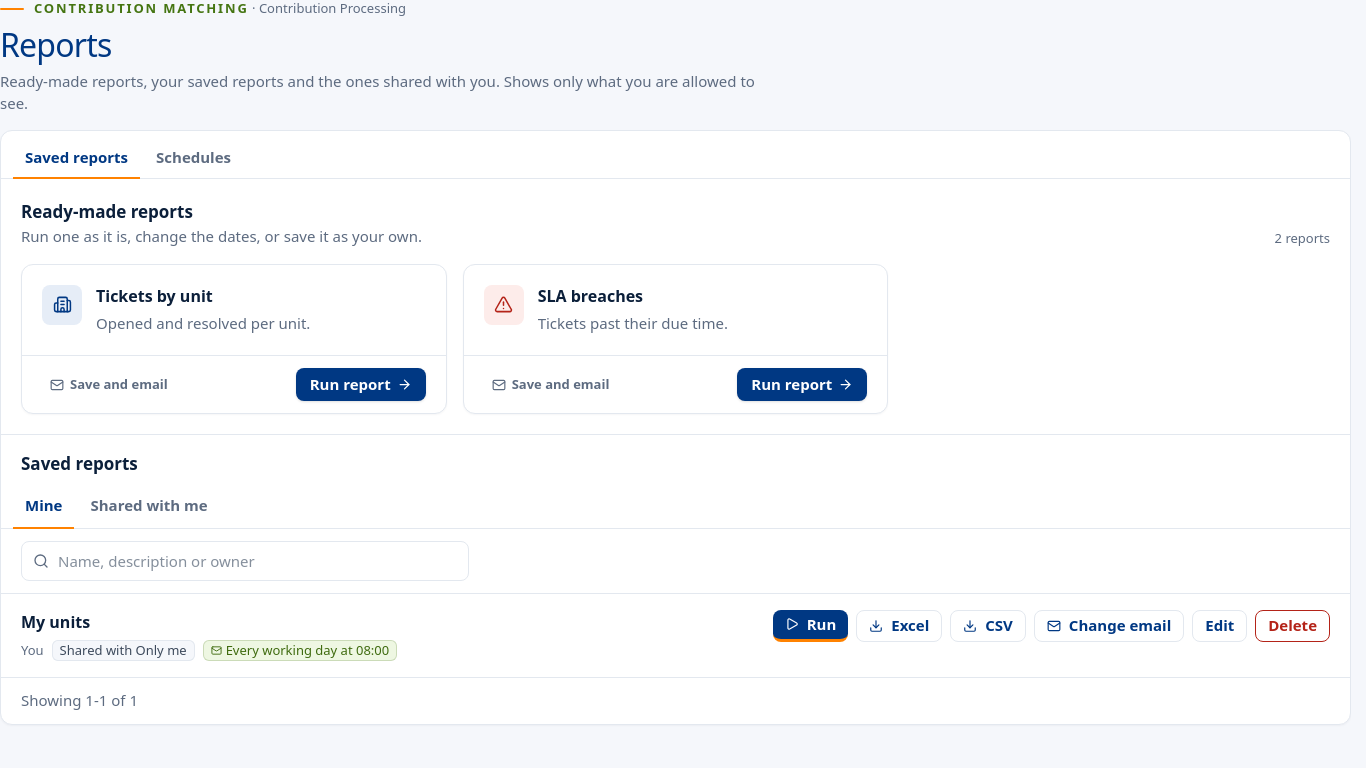
Test: Reports: saved reports › deleting a saved report refreshes the schedules too
What coordinates should you click on to do the following:
click the button named "Delete My units"
I would click on:
 (1293, 626)
Its box is [1255,610,1330,642].
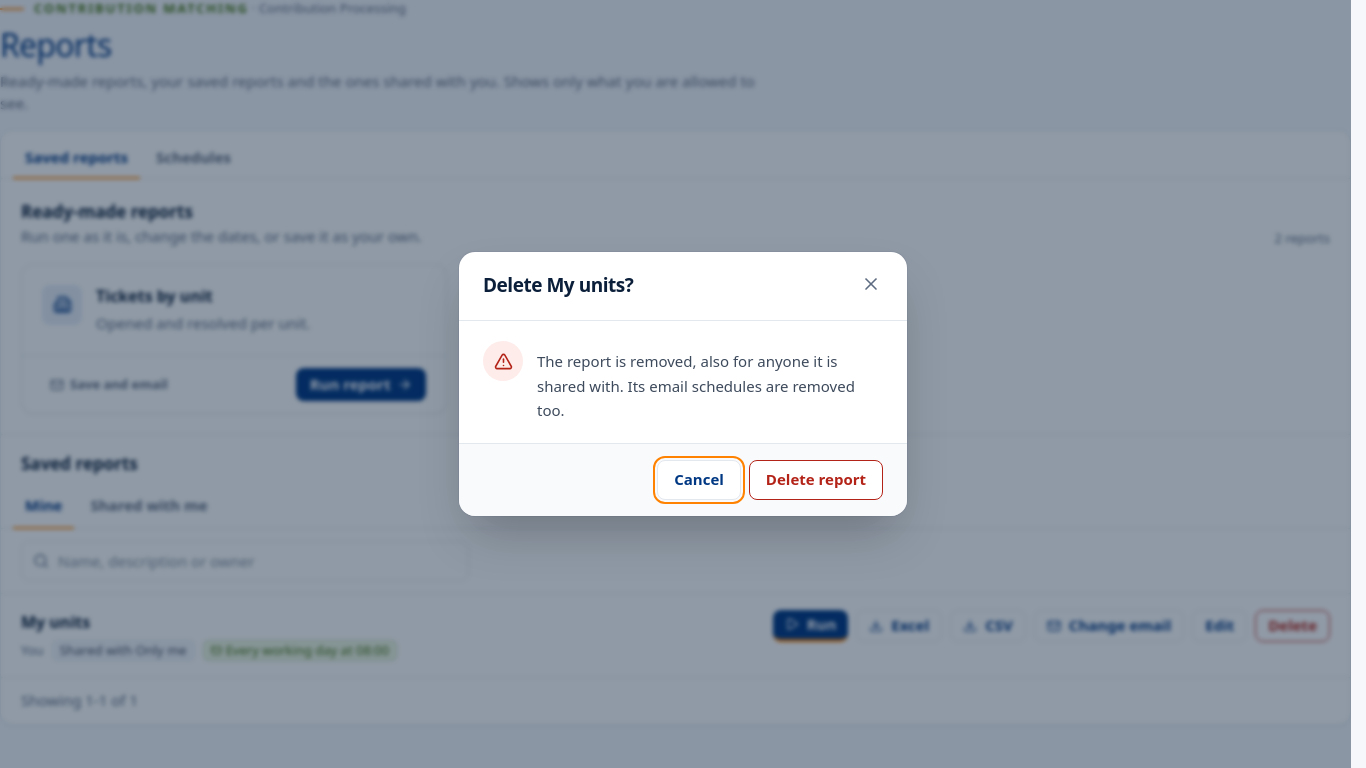
What coordinates should you click on to do the following:
click the button "Delete report"
I would click on:
 (816, 480)
Its box is [749,460,883,500].
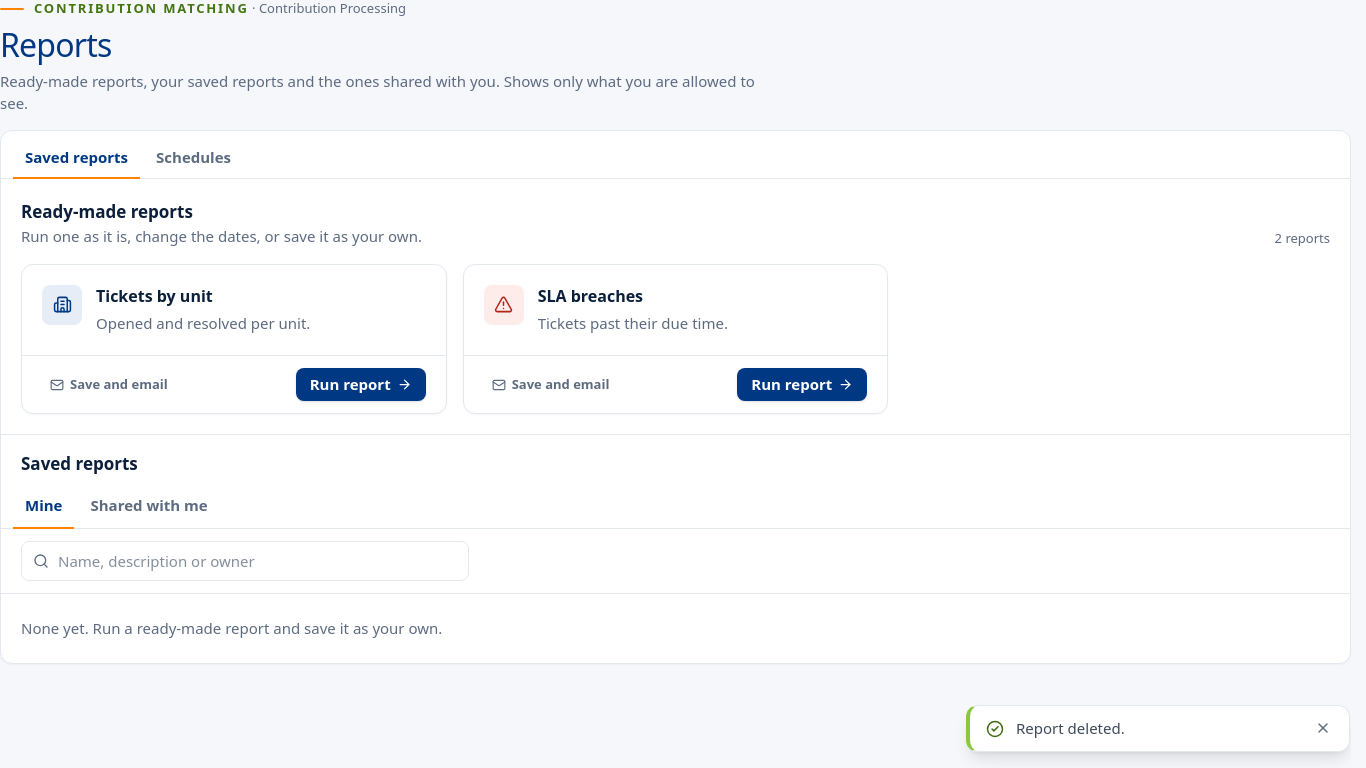
Expected: the text "Report deleted." is shown, [1016,718,1125,738]
What coordinates should you click on to do the following:
click the tab "Schedules"
I would click on:
 (194, 159)
Its box is [144,139,243,179].
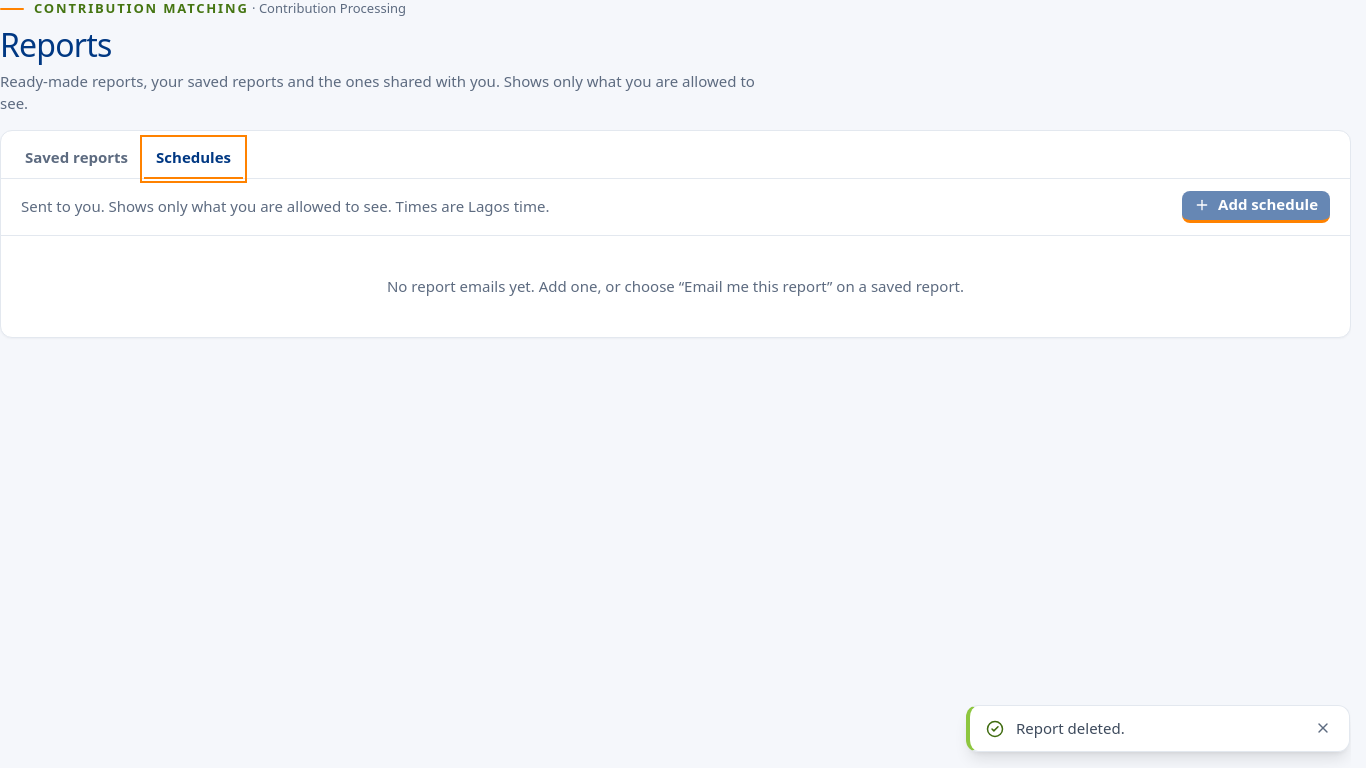
Expected: the text "No report emails yet" is shown, [387,276,964,296]
